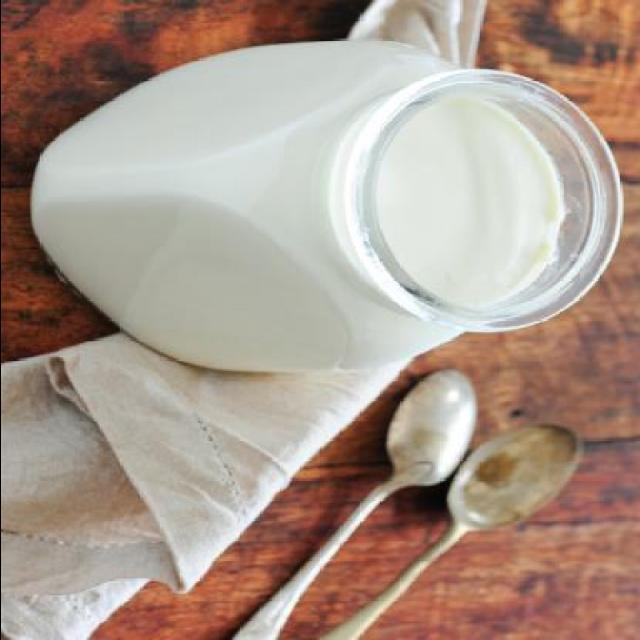Milk: (31, 39, 569, 373)
